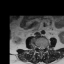CCS_stenosis: (40, 44, 42, 52)
LFS_normal: (44, 43, 46, 50)
LLS_normal: (42, 44, 44, 51)
RFS_normal: (36, 43, 38, 50)
RLS_normal: (38, 44, 40, 51)
